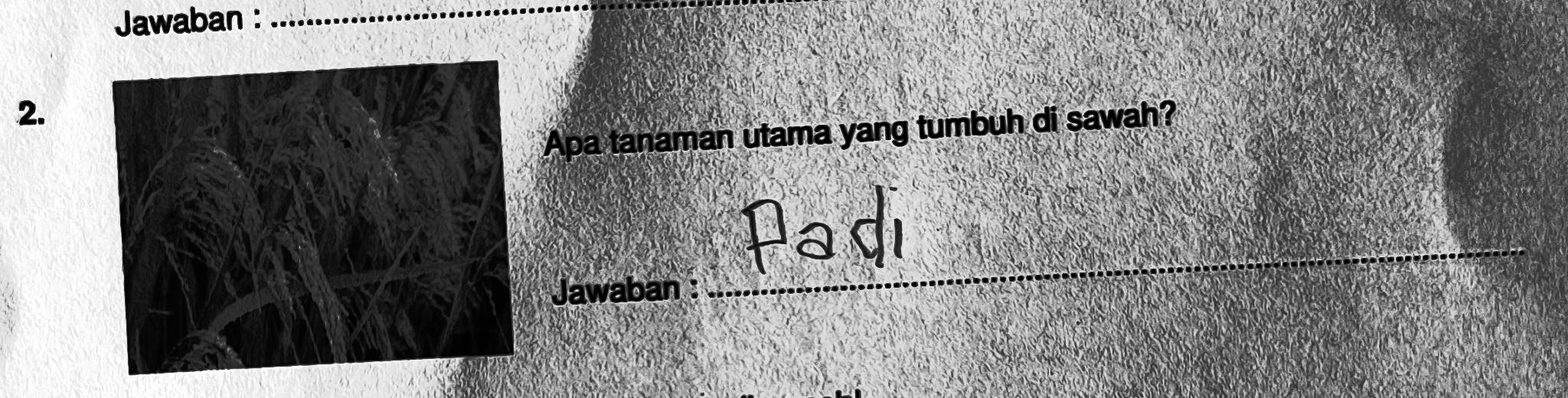jawaban: (730, 169, 919, 288)
